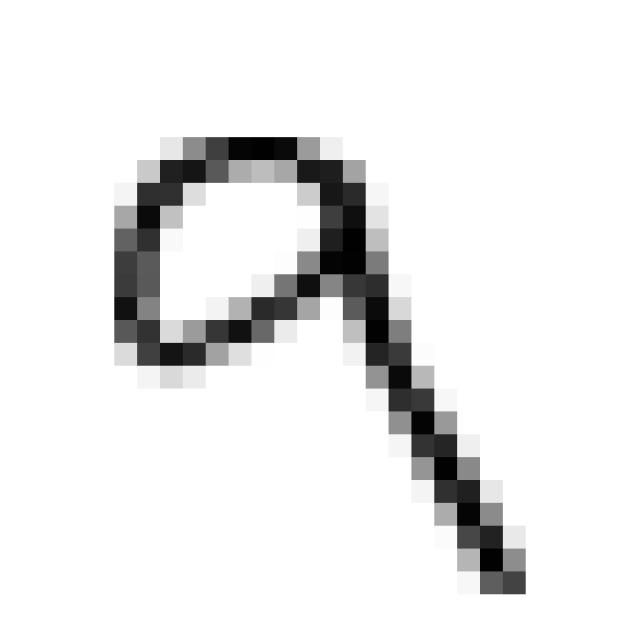9 -nine-: (85, 109, 542, 616)
